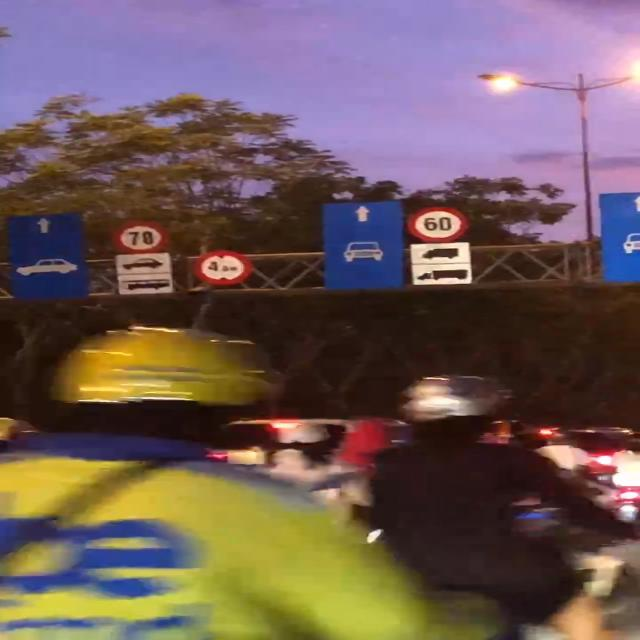Bien bao toc do toi da cho phep: (403, 206, 476, 244), (114, 221, 169, 253)
